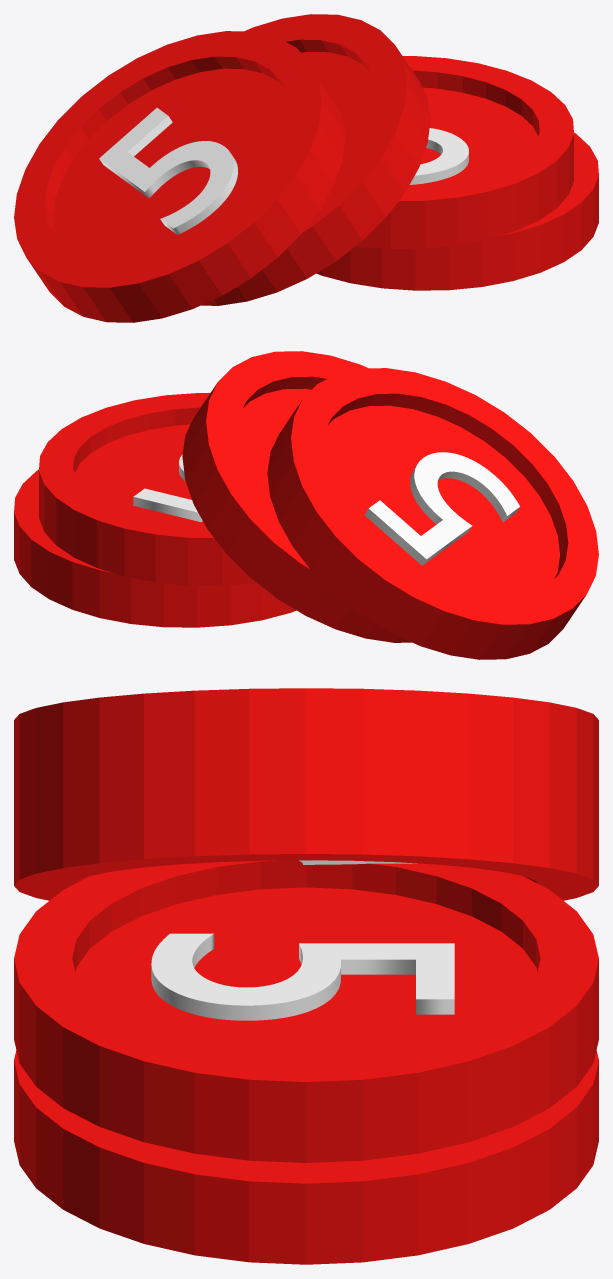
Rendered from stos_monet_5.fbx.
The picture shows the model from 3 angles, top to bottom: view 1: azimuth 30°, elevation 25°; view 2: azimuth 150°, elevation 25°; view 3: azimuth 270°, elevation 25°; orthographic projection. The views are drawn at different scales.
Parts seen in each view (by area): view 1: MONETA_5.003, MONETA_5.001, MONETA_5.002, MONETA_5, NOMINAL_G.003, NOMINAL_G.001; view 2: MONETA_5.003, MONETA_5.001, MONETA_5.002, MONETA_5, NOMINAL_G.003, NOMINAL_G.001; view 3: MONETA_5.001, MONETA_5, MONETA_5.002, MONETA_5.003, NOMINAL_G.001.
Boxes of the visible parts, x1,y1,x2,y2 form: MONETA_5.003: (14,31,345,322); MONETA_5.001: (356,56,573,248); MONETA_5.002: (201,14,430,305); MONETA_5: (316,132,598,290); NOMINAL_G.003: (99,108,237,234); NOMINAL_G.001: (409,128,468,184); MONETA_5.003: (267,368,598,659); MONETA_5.001: (39,393,256,585); MONETA_5.002: (182,351,411,642); MONETA_5: (14,469,296,627); NOMINAL_G.003: (364,452,519,565); NOMINAL_G.001: (133,454,202,521); MONETA_5.001: (14,860,598,1162); MONETA_5: (14,1050,598,1264); MONETA_5.002: (14,765,598,900); MONETA_5.003: (14,688,598,796); NOMINAL_G.001: (151,933,454,1020).
Bounding box in the file's own units: 359 × 132 × 200.
